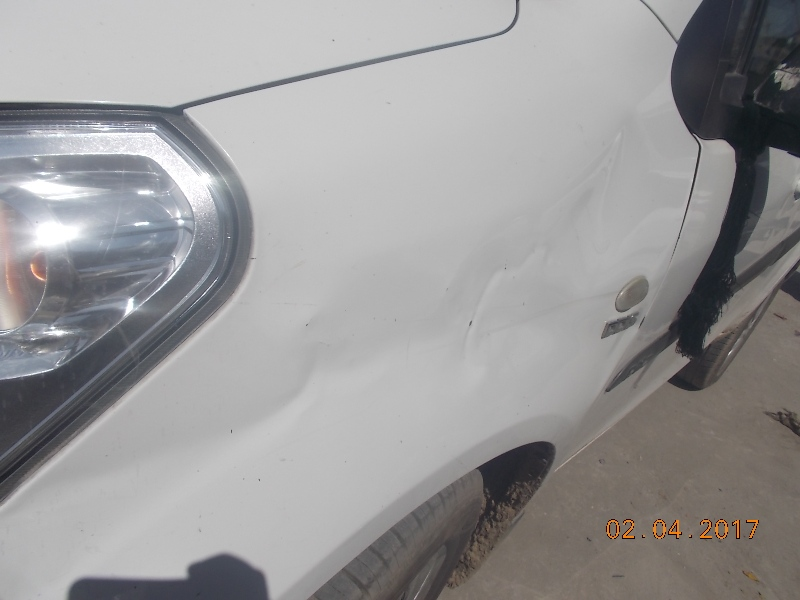Dislocation: (317, 421, 400, 463)
